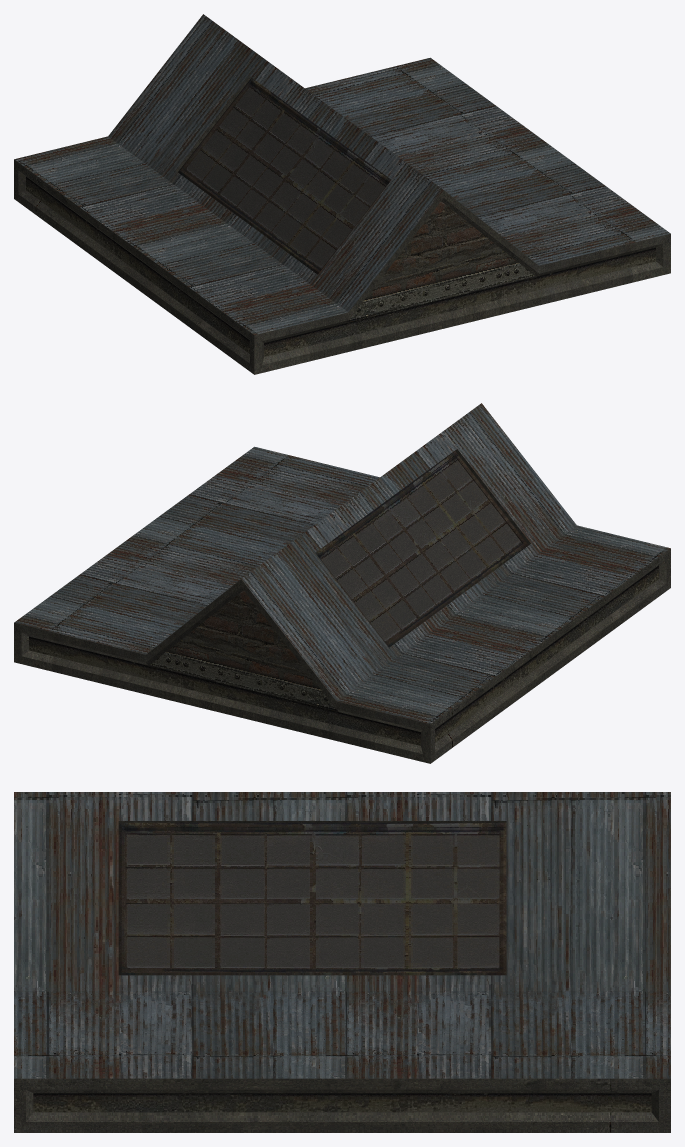
Rendered from roof_bx_1_corner_2.glb.
The picture shows the model from 3 angles, top to bottom: view 1: azimuth 30°, elevation 25°; view 2: azimuth 150°, elevation 25°; view 3: azimuth 270°, elevation 25°; orthographic projection. The views are drawn at different scales.
Parts seen in each view (by area): view 1: roof_bx_1_corner_2; view 2: roof_bx_1_corner_2; view 3: roof_bx_1_corner_2.
Boxes of the visible parts, x1=… form: roof_bx_1_corner_2: x1=14, y1=14, x2=670, y2=374; roof_bx_1_corner_2: x1=14, y1=403, x2=670, y2=763; roof_bx_1_corner_2: x1=14, y1=792, x2=670, y2=1132.
Bounding box in the file's own units: 4.4 × 1.4 × 4.4.
4 materials, 4 textured.
